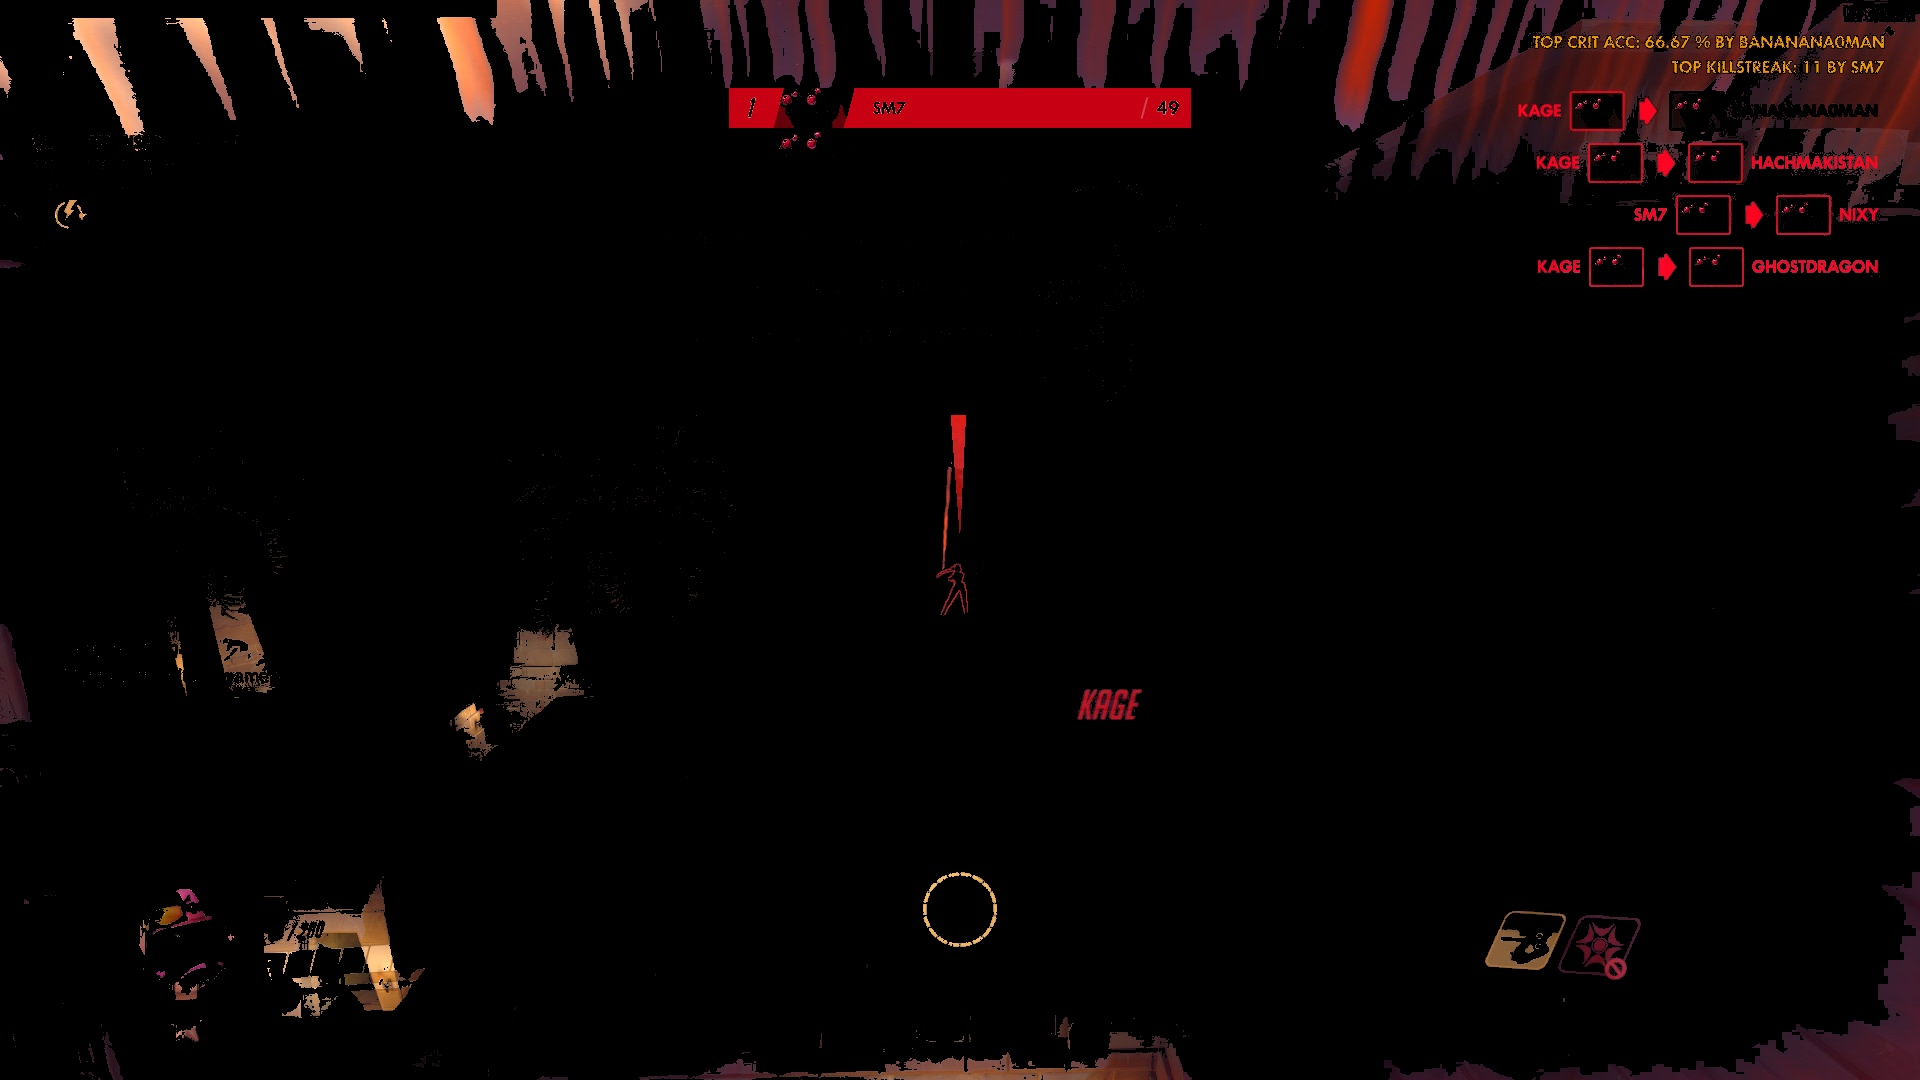widowmaker: (934, 562, 975, 626)
